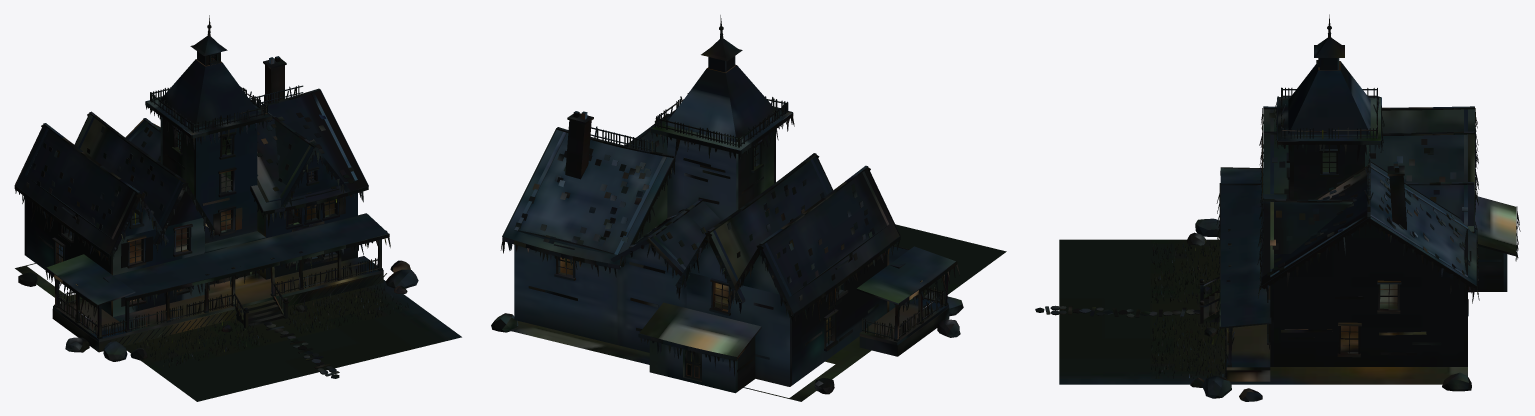
Rendered from house_exterior.glb.
3 views of the same model, side by side, from view 1: azimuth 30°, elevation 25°; view 2: azimuth 150°, elevation 25°; view 3: azimuth 270°, elevation 25° (orthographic). The views are drawn at different scales.
Visible parts, largest first — view 1: CHUNK_house_exterior; view 2: CHUNK_house_exterior; view 3: CHUNK_house_exterior.
Boxes of the visible parts, box(x1,y1,x2,y2) form: CHUNK_house_exterior: box(14, 15, 461, 401); CHUNK_house_exterior: box(491, 15, 1006, 401); CHUNK_house_exterior: box(1035, 14, 1520, 401).
Size of the model in its own units: 33.48 by 25.19 by 36.81.
1 material, 1 textured.
